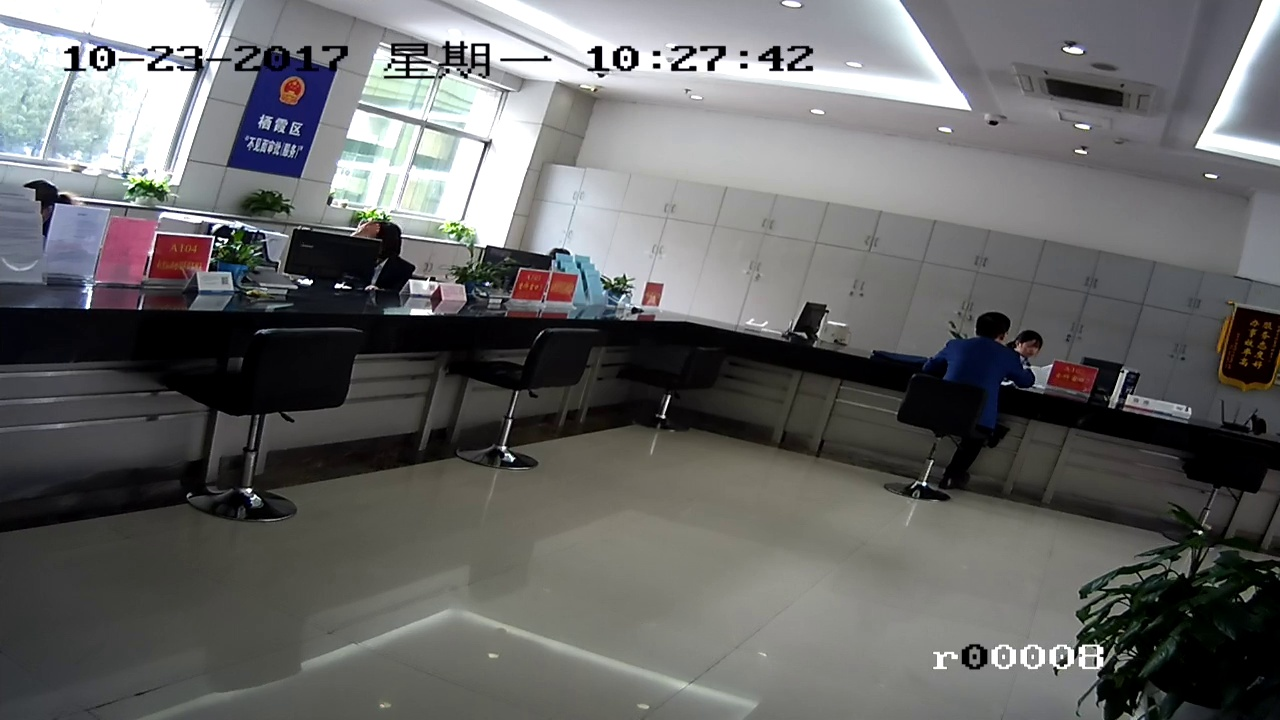billboard: (247, 38, 311, 182), (1227, 301, 1276, 409), (153, 232, 205, 290)
chair: (180, 326, 370, 526), (465, 332, 601, 478), (634, 340, 724, 455), (899, 373, 969, 506)
person: (944, 313, 1029, 396), (353, 217, 406, 255), (1020, 331, 1047, 360)
pot: (217, 229, 274, 282), (456, 247, 495, 305)
